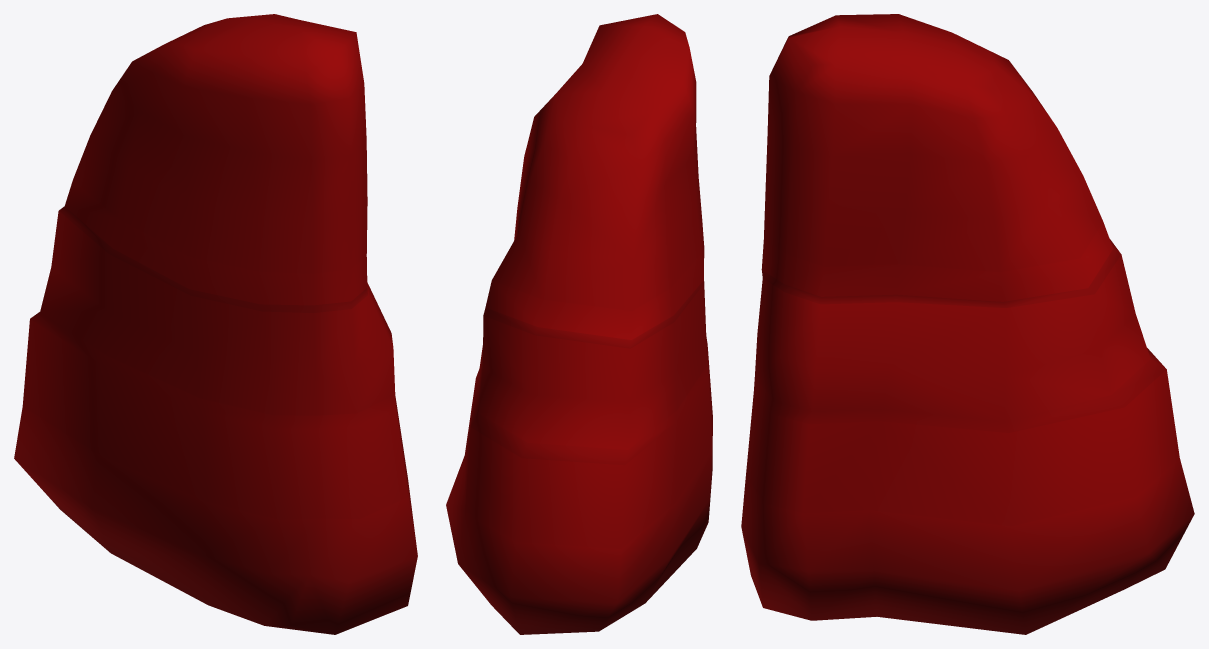
File: geology-landforms-sandstonemesa_v2.fbx
The picture shows the model from 3 angles, left to right: view 1: azimuth 30°, elevation 25°; view 2: azimuth 150°, elevation 25°; view 3: azimuth 270°, elevation 25°; orthographic projection. The views are drawn at different scales.
Visible parts, largest first — view 1: SandstoneMesa_v2; view 2: SandstoneMesa_v2; view 3: SandstoneMesa_v2.
Boxes of the visible parts, left/top/right/bottom form: SandstoneMesa_v2: left=14, top=14, right=417, bottom=634; SandstoneMesa_v2: left=446, top=14, right=712, bottom=634; SandstoneMesa_v2: left=741, top=14, right=1194, bottom=634.
Size of the model in its own units: 20.96 by 43.92 by 32.11.
